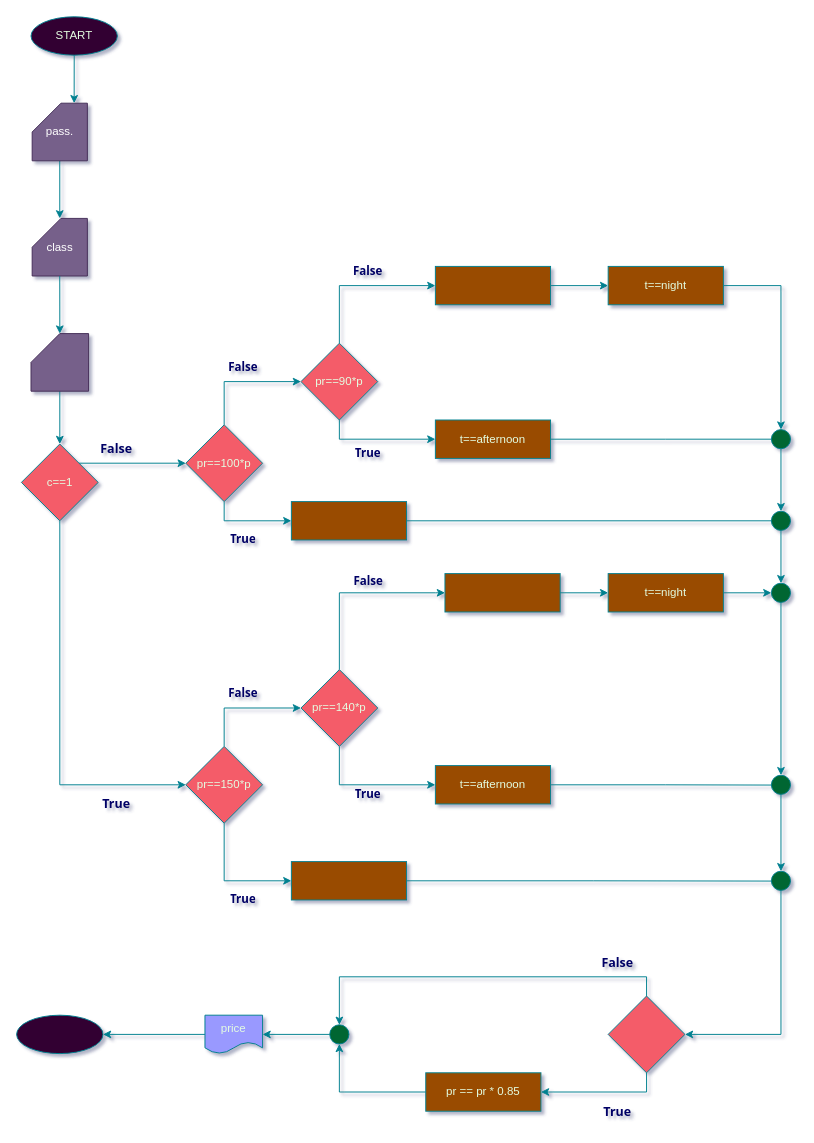
Image size: 814x1143. Some labels were removed from this diagram. Each missing label, with the centre of its shape:
"END" goes at point 59,1034.
"p>2" goes at point 646,1034.
"pr==120*p" goes at point 502,592.
"pr==70*p" goes at point 492,285.
"t == morning" goes at point 348,880.
"t==morning" goes at point 348,520.
"time" goes at point 59,362.
